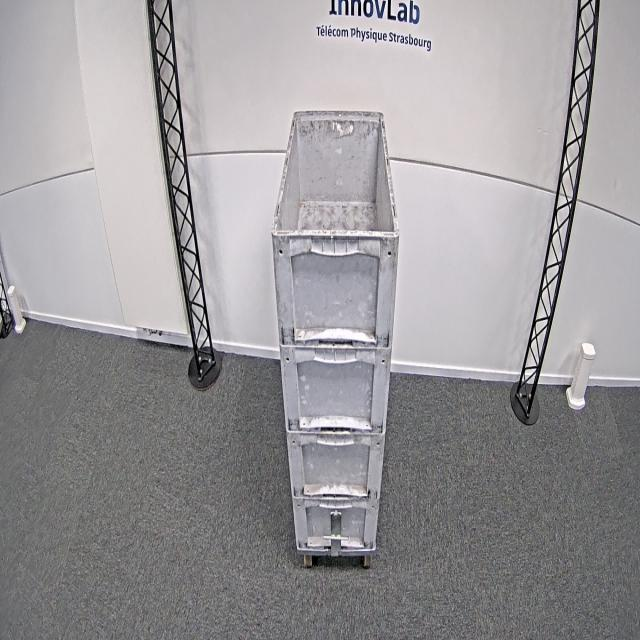Roll4G: (268, 106, 402, 246)
